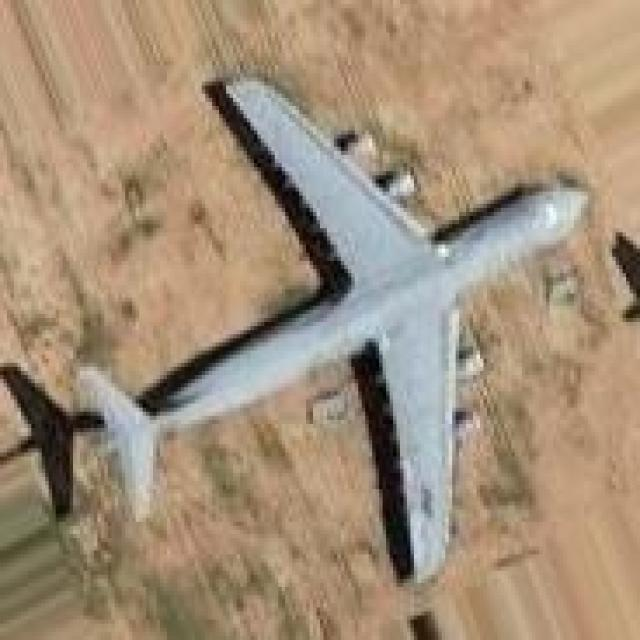C-5_TopDown: (73, 65, 591, 591)
